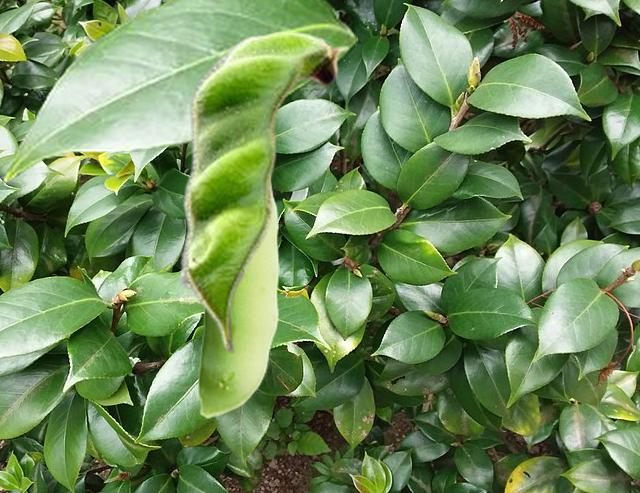pea: (177, 30, 349, 353), (194, 176, 278, 417)
